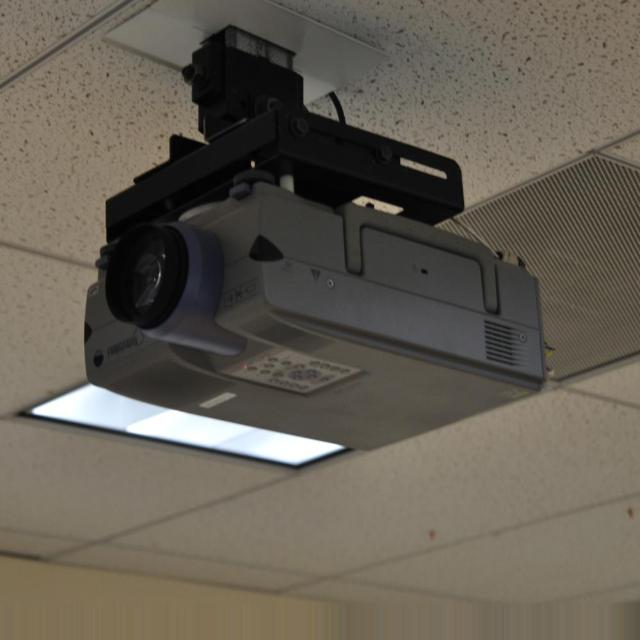Projector: (80, 174, 552, 456)
